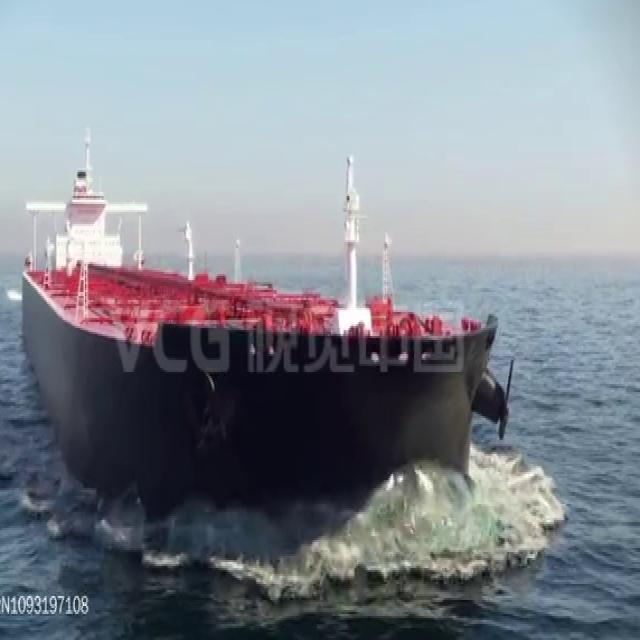cargoship: (22, 132, 497, 513)
